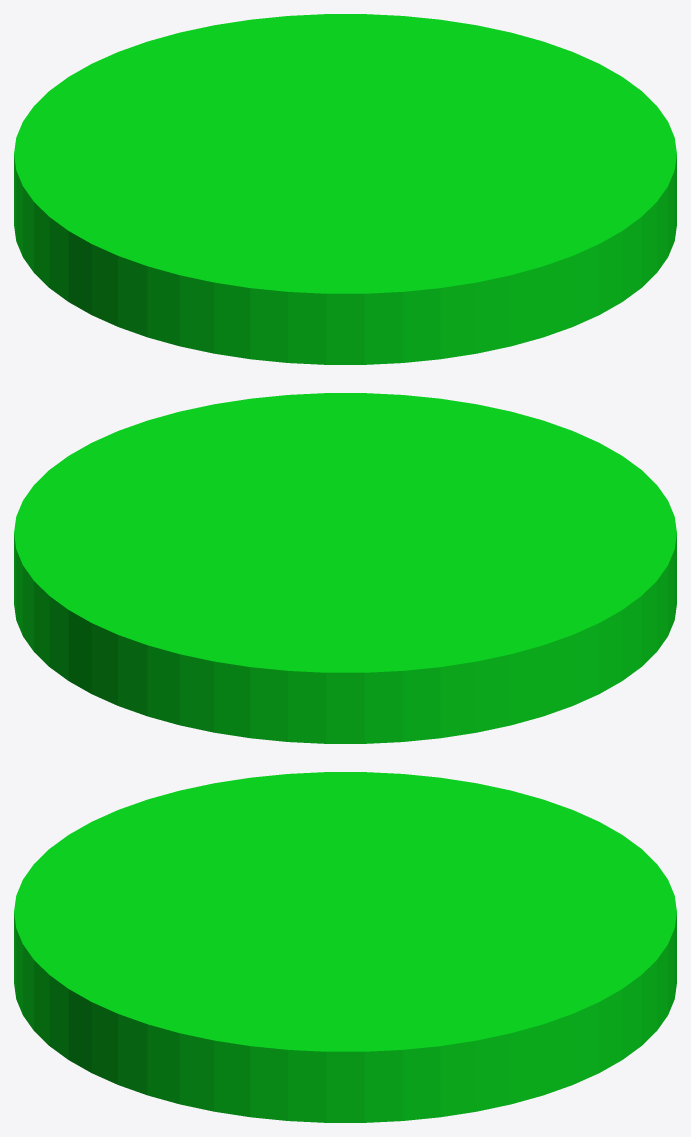
Rendered from TPU-Coin-RAW.glb.
The picture shows the model from 3 angles, top to bottom: view 1: azimuth 30°, elevation 25°; view 2: azimuth 150°, elevation 25°; view 3: azimuth 270°, elevation 25°; orthographic projection.
Parts seen in each view (by area): view 1: Цилиндр; view 2: Цилиндр; view 3: Цилиндр.
Boxes of the visible parts, x1,y1,x2,y2 form: Цилиндр: (14, 14, 676, 364); Цилиндр: (14, 393, 676, 743); Цилиндр: (14, 772, 676, 1122).
Size of the model in its own units: 2 by 0.2369 by 2.
